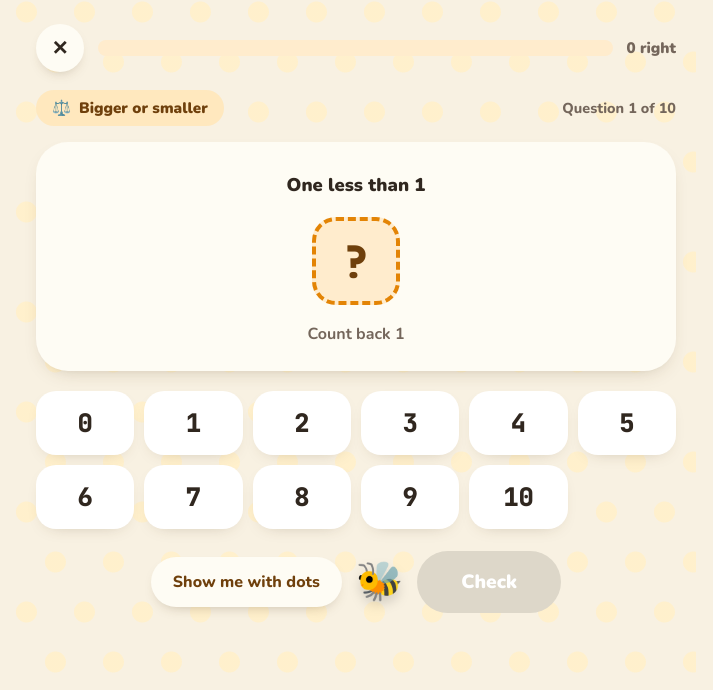
Test: Number Lab · comparison questions › reveals a glyph as a noun phrase, so the sentence still reads
Expected: the button "Check" is shown, [417, 551, 561, 613]
Step 1. Click the button "0" → (85,423), box [36, 391, 134, 455]
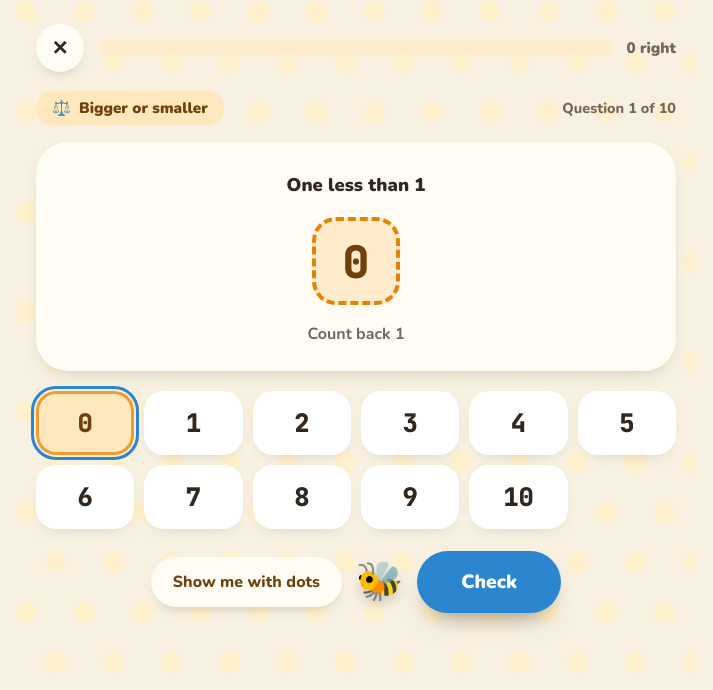
Step 2. Click the button "Check" → (489,582), box [417, 551, 561, 613]
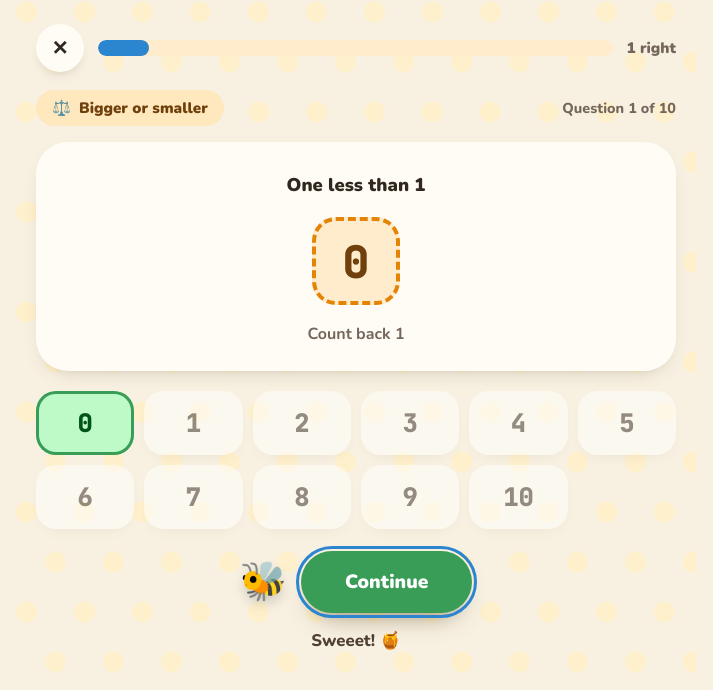
Step 3. Click the button "Continue" → (387,582), box [301, 551, 472, 613]
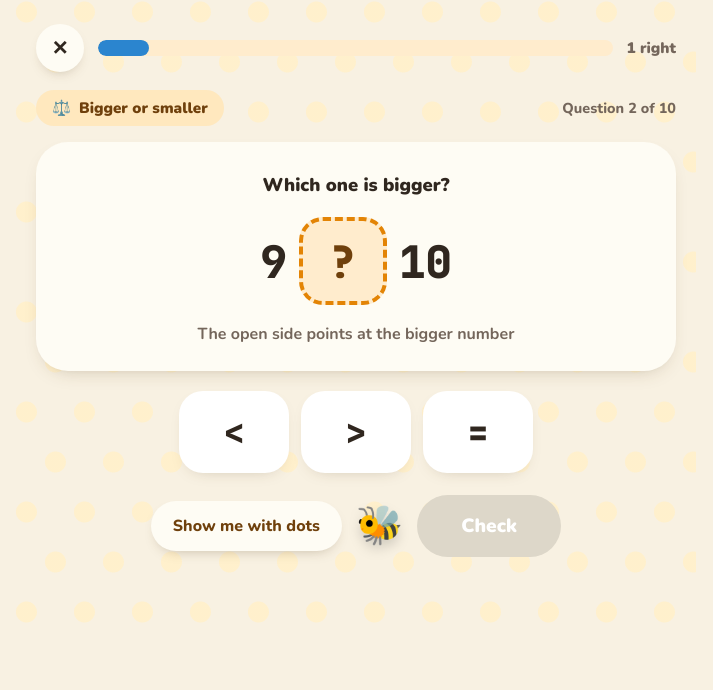
Step 4. Click the button named "is greater than" → (356,432), box [301, 391, 411, 473]
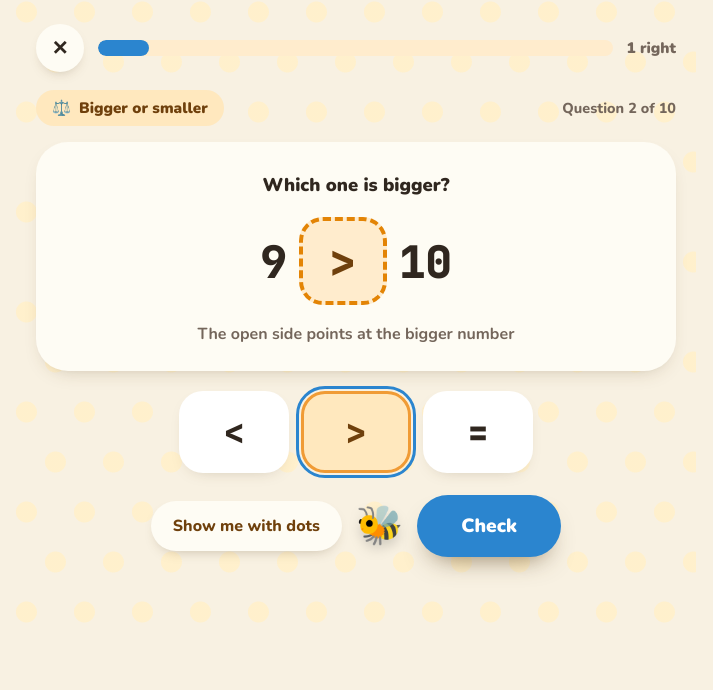
Step 5. Click the button "Check" → (489,526), box [417, 495, 561, 557]
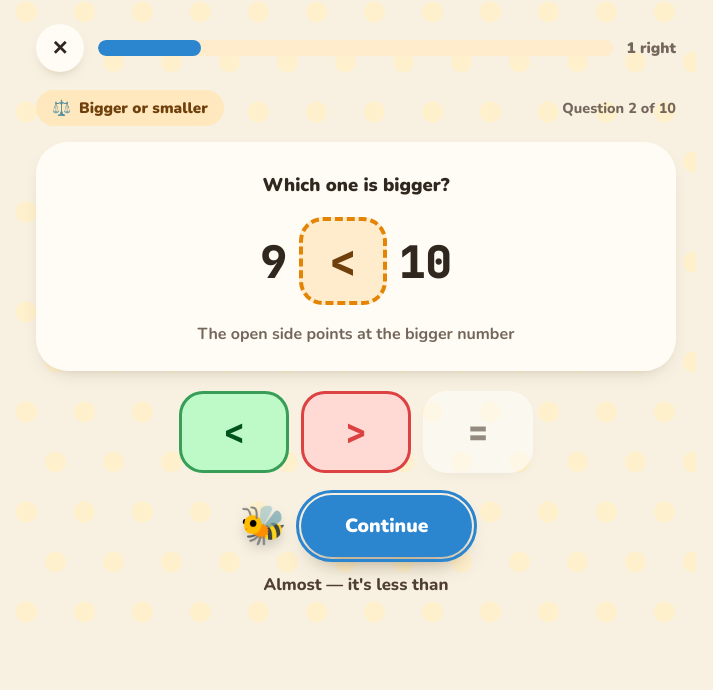
Now the message reads "Almost — it's less than", box [264, 573, 448, 596]
